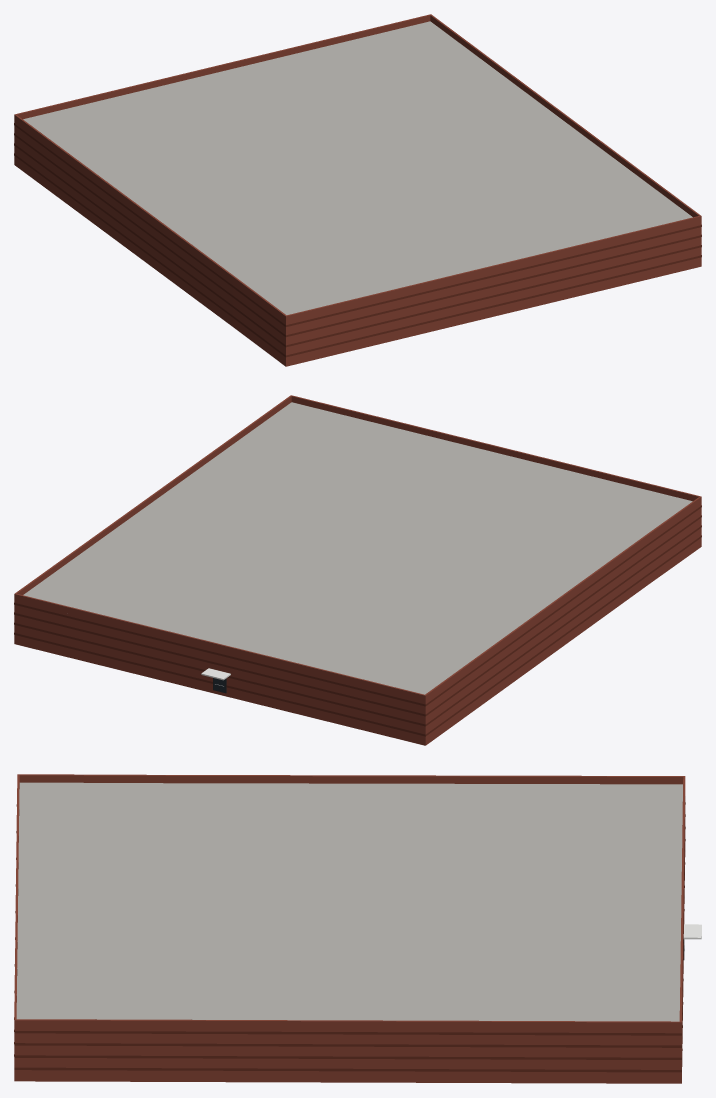
The model's file is research_and_operations_center.glb.
The picture shows the model from 3 angles, top to bottom: view 1: azimuth 30°, elevation 25°; view 2: azimuth 150°, elevation 25°; view 3: azimuth 270°, elevation 25°; orthographic projection. The views are drawn at different scales.
Parts seen in each view (by area): view 1: research_and_operations_center_Roof_Membrane, research_and_operations_center_Wall_redBrick, research_and_operations_center_Stripe_6b3224; view 2: research_and_operations_center_Roof_Membrane, research_and_operations_center_Wall_redBrick, research_and_operations_center_Stripe_6b3224; view 3: research_and_operations_center_Roof_Membrane, research_and_operations_center_Wall_redBrick, research_and_operations_center_Stripe_6b3224.
Boxes of the visible parts, x1,y1,x2,y2 form: research_and_operations_center_Roof_Membrane: (23, 21, 692, 315); research_and_operations_center_Wall_redBrick: (14, 14, 701, 366); research_and_operations_center_Stripe_6b3224: (14, 123, 701, 357); research_and_operations_center_Roof_Membrane: (23, 402, 692, 694); research_and_operations_center_Wall_redBrick: (14, 395, 701, 745); research_and_operations_center_Stripe_6b3224: (14, 505, 701, 736); research_and_operations_center_Roof_Membrane: (16, 782, 682, 1021); research_and_operations_center_Wall_redBrick: (14, 774, 685, 1083); research_and_operations_center_Stripe_6b3224: (14, 802, 685, 1072).
Bounding box in the file's own units: 65.22 × 7.5 × 76.32.
